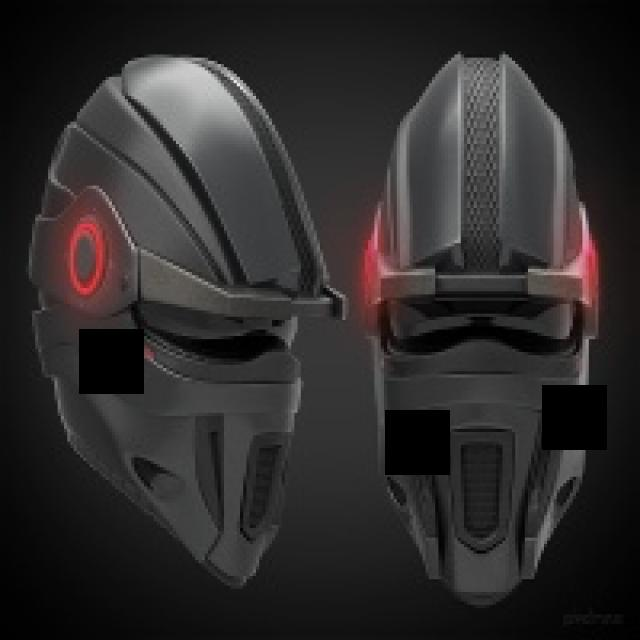Helmet: (30, 58, 342, 586), (365, 55, 598, 604)
